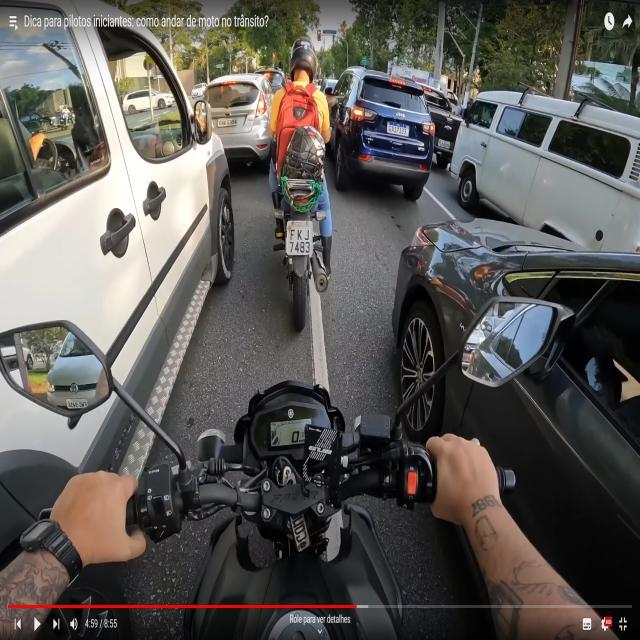placa_moto: (285, 217, 316, 265)
